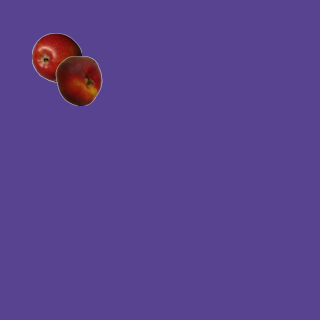Apple Braeburn: (31, 32, 81, 82)
Nectarine Flat: (53, 55, 103, 105)
